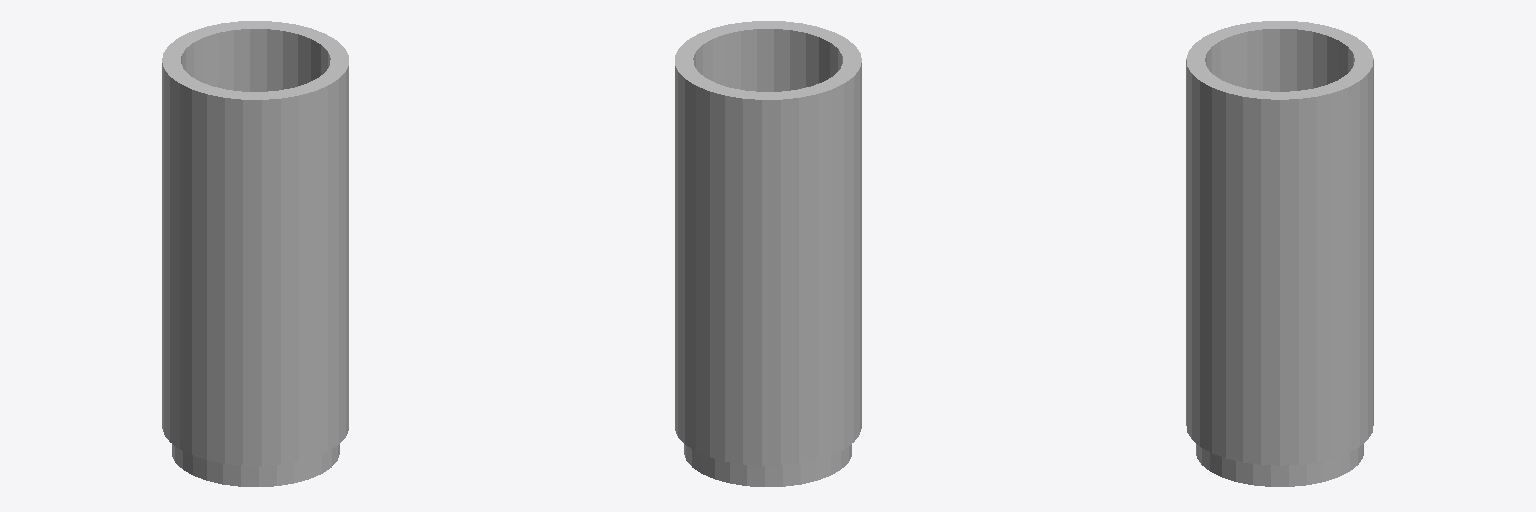
File: mic_model_git.obj
3 renders of one model, left to right at view 1: azimuth 30°, elevation 25°; view 2: azimuth 150°, elevation 25°; view 3: azimuth 270°, elevation 25°, orthographic.
Parts seen in each view (by area): view 1: Microphone_Tube_V1; view 2: Microphone_Tube_V1; view 3: Microphone_Tube_V1.
Part boxes in pixels (bbox=[...]): Microphone_Tube_V1: bbox=[162, 21, 348, 486]; Microphone_Tube_V1: bbox=[675, 21, 861, 486]; Microphone_Tube_V1: bbox=[1186, 21, 1373, 486].
Size of the model in its own units: 0.0199 by 0.046 by 0.02.